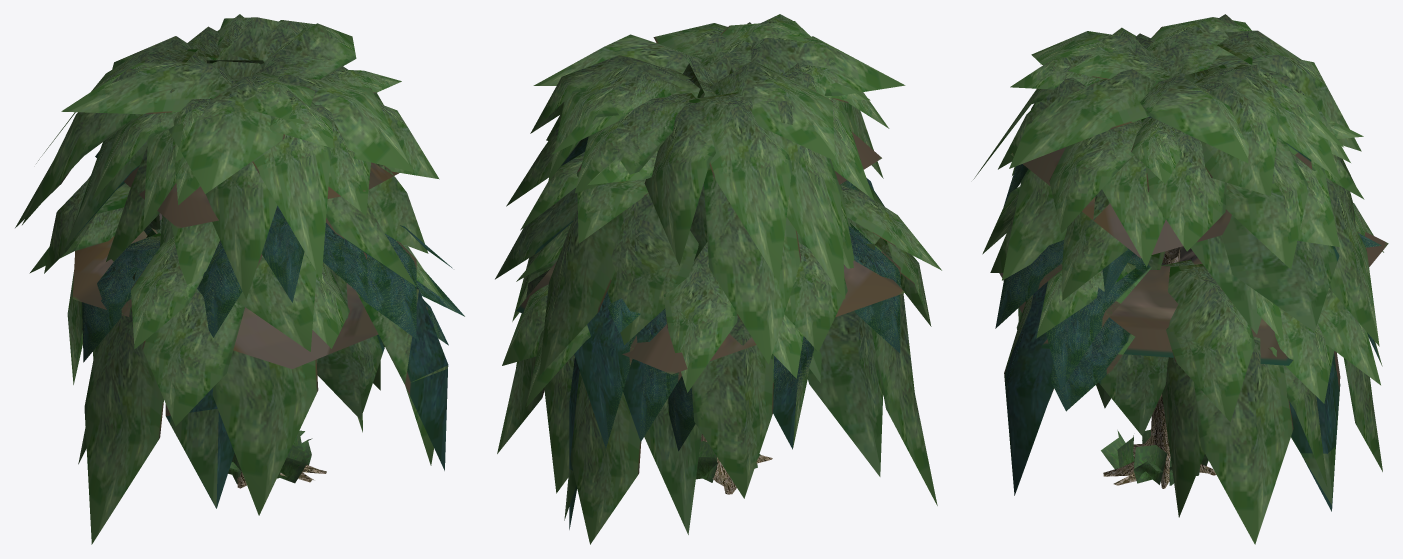
The model's file is treewillow_tslocator_gmdc.obj.
3 views of the same model, side by side, from view 1: azimuth 30°, elevation 25°; view 2: azimuth 150°, elevation 25°; view 3: azimuth 270°, elevation 25° (orthographic). The views are drawn at different scales.
Parts seen in each view (by area): view 1: layeredwillowleaves; view 2: layeredwillowleaves; view 3: layeredwillowleaves, treewillow_bark.
Part boxes in pixels (x1=…): layeredwillowleaves: x1=15, y1=14, x2=464, y2=544; layeredwillowleaves: x1=495, y1=14, x2=941, y2=544; layeredwillowleaves: x1=973, y1=14, x2=1388, y2=544; treewillow_bark: x1=1103, y1=247, x2=1216, y2=488.
Size of the model in its own units: 8.25 by 9.46 by 8.28.
2 materials, 2 textured.
